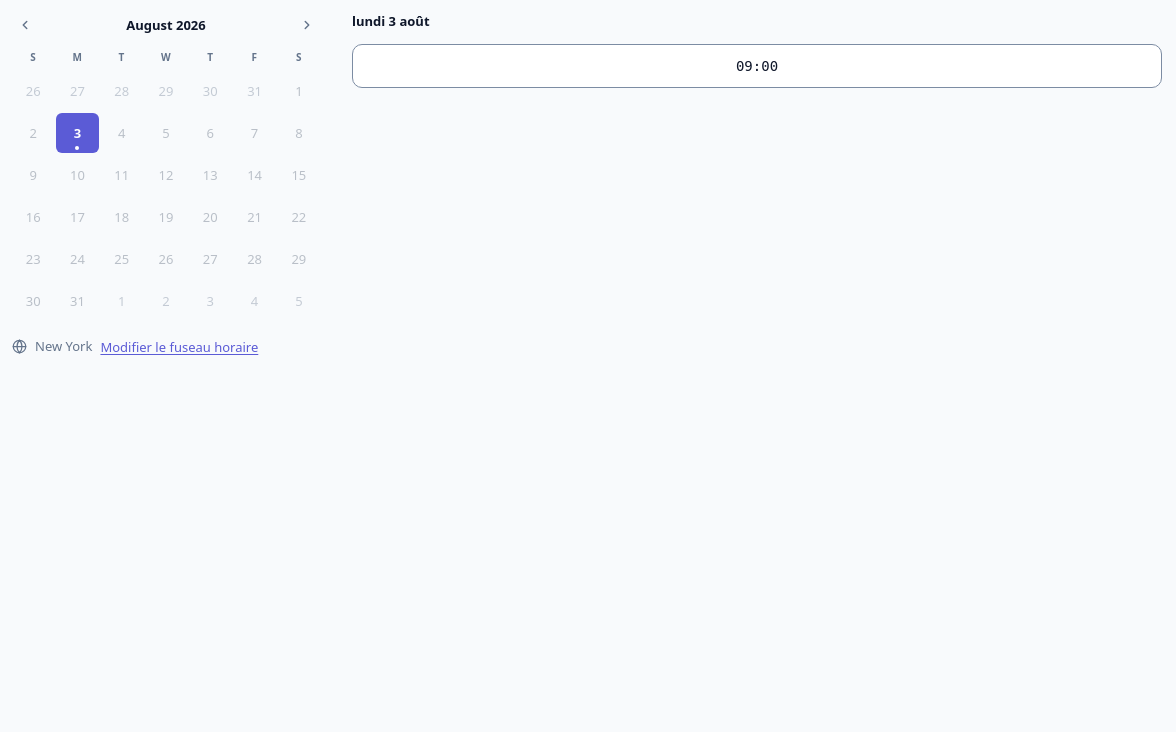
it: SlotPicker › forwards a non-default locale and TimeZonePicker labels to the embedded control
Click the button "Modifier le fuseau horaire". click: (179, 347)
box: [100,338,258,356]
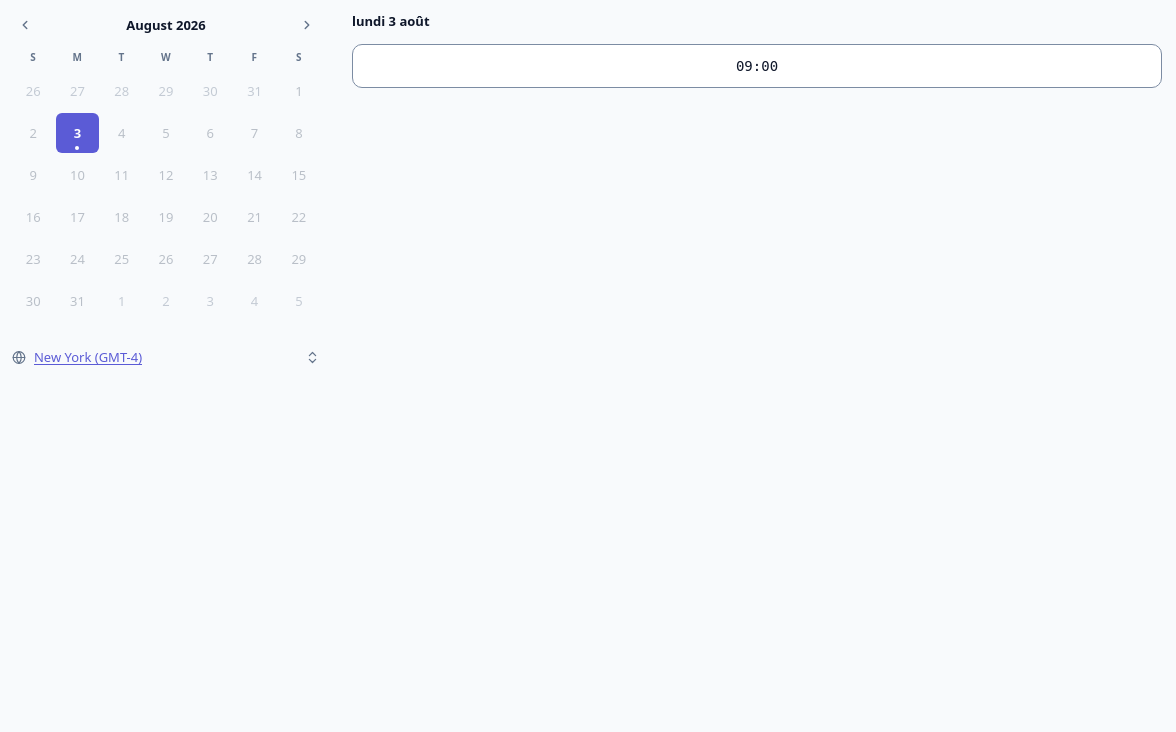
The search input only exists with the zone Combobox open.
Click the button "New York (GMT-4)". click: (88, 357)
box: [34,337,320,377]
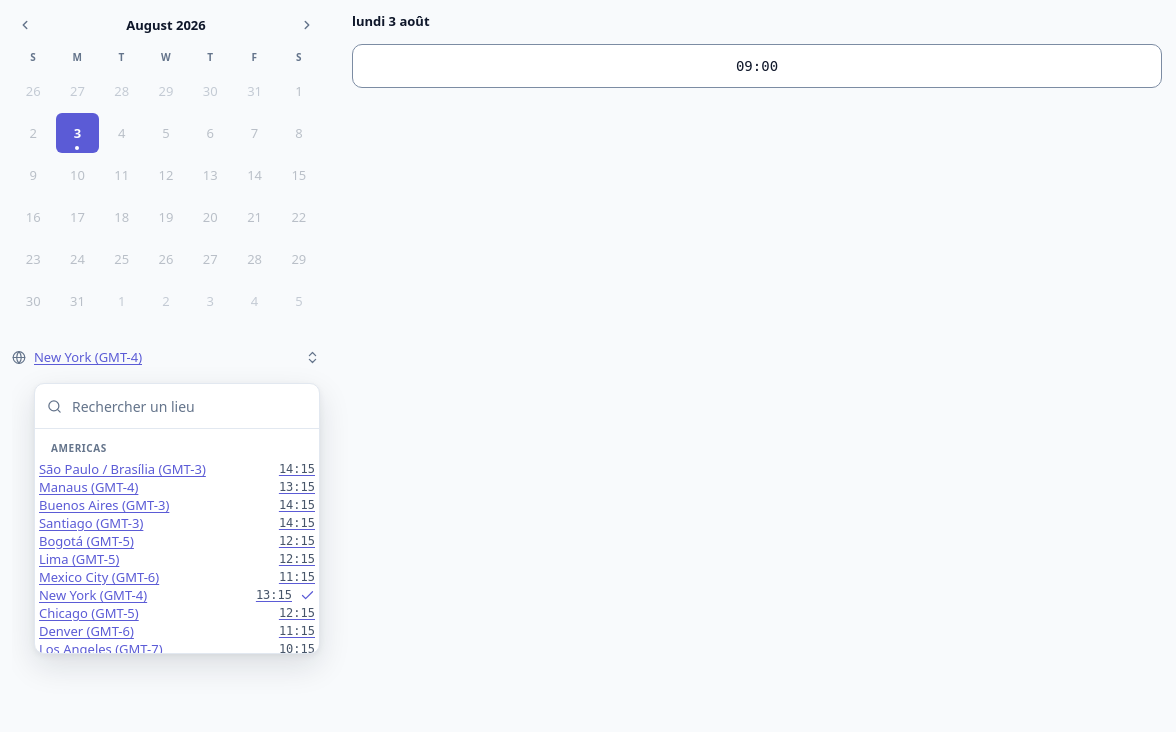
Expected: the dropdown is shown, [70,392,307,420]
Expected: the 2nd text with class "lyra-combobox__trailing" reads "13:15", [256,588,292,602]
